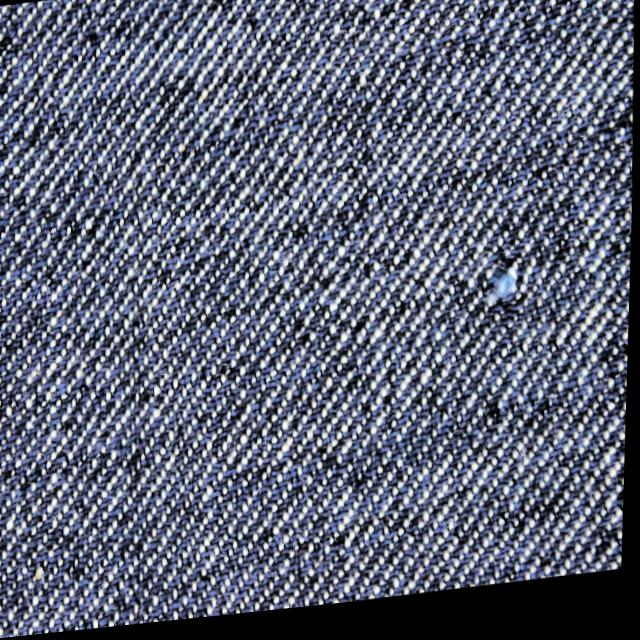Hole: (469, 250, 543, 356)
